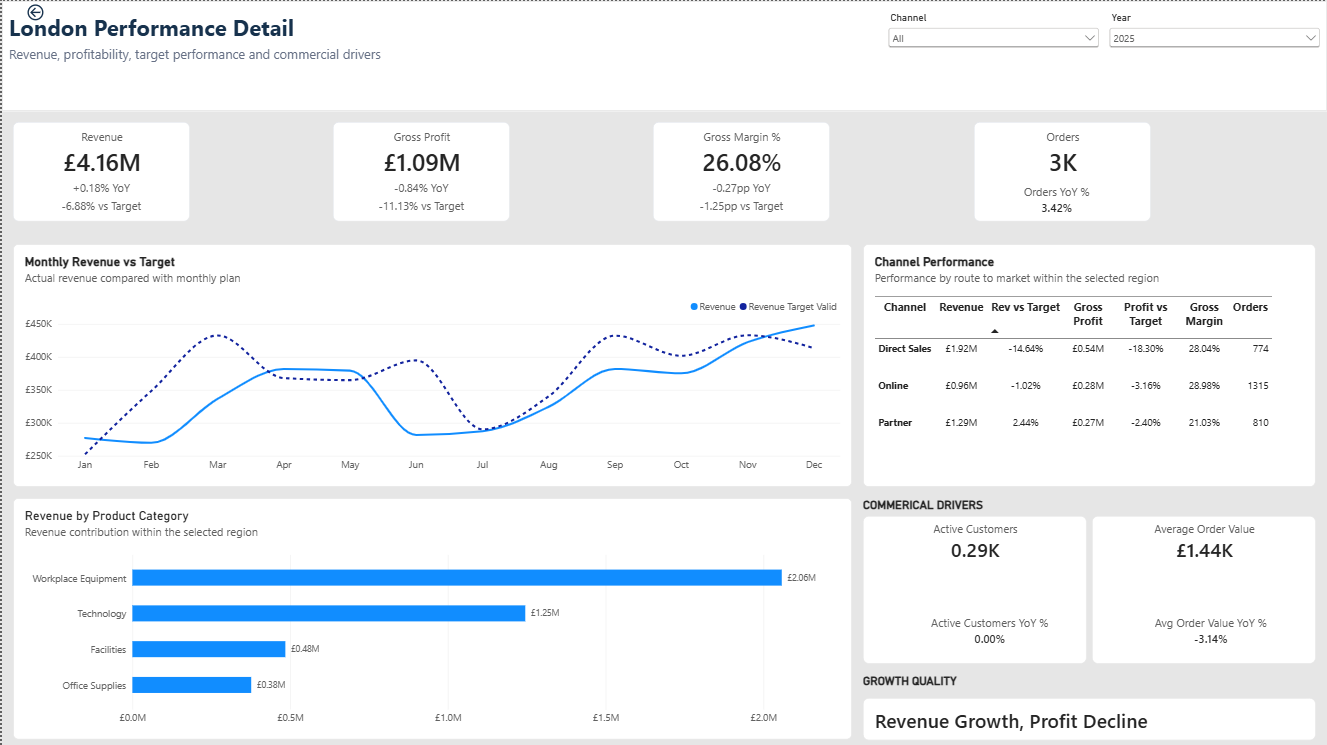

What the dashboard file says about the page in this screenshot:
{"tool":"powerbi","page":{"name":"DT Region Detail","canvas":[1920,1080],"ordinal":3},"visuals":[{"type":"shape","box":[0,0,1920,160],"z":0},{"type":"cardVisual","fields":{"Data":["_Measures.Gross Profit Margin %"]},"box":[944,176,256,144],"z":0,"group":"g1"},{"type":"cardVisual","fields":{"Data":["_Measures.Orders"]},"box":[1408,176,256,144],"z":0,"group":"g4"},{"type":"cardVisual","fields":{"Data":["_Measures.Gross Margin YoY Change","_Measures.Gross Margin vs Target Valid"]},"box":[944,256,256,64],"z":1000,"group":"g1"},{"type":"textbox","box":[10,64,1270,32],"z":2000},{"type":"slicer","fields":{"Values":["DimDate.Year"]},"box":[1600,16,315,65],"z":3000},{"type":"slicer","fields":{"Values":["DimChannel.Channel"]},"box":[1280,16,315,65],"z":4000},{"type":"cardVisual","fields":{"Data":["_Measures.Revenue"]},"box":[16,176,256,144],"z":6000,"group":"g3"},{"type":"cardVisual","fields":{"Data":["_Measures.Gross Profit"]},"box":[480,176,256,144],"z":6000,"group":"g2"},{"type":"lineChart","title":"Monthly Revenue vs Target","fields":{"Category":["DimDate.MonthShort"],"Y":["_Measures.Revenue","_Measures.Revenue Target Valid"]},"box":[16,352,1216,352],"z":6000},{"type":"group","id":"g1","title":"Group 1","box":[944,176,256,144],"z":10000},{"type":"group","id":"g2","title":"Group 2","box":[480,176,256,144],"z":11000},{"type":"group","id":"g3","title":"Group 3","box":[16,176,256,144],"z":12000},{"type":"textbox","box":[10,16,1270,48],"z":12001},{"type":"actionButton","box":[0,0,96,32],"z":12002},{"type":"cardVisual","fields":{"Data":["_Measures.Orders YoY %"]},"box":[1424,256,208,64],"z":12003,"group":"g4"},{"type":"group","id":"g4","title":"Group 4","box":[1408,176,256,144],"z":12004},{"type":"pivotTable","title":"Channel Performance","fields":{"Rows":["DimChannel.Channel"],"Values":["_Measures.Revenue","_Measures.Revenue vs Target % Valid","_Measures.Gross Profit","_Measures.Profit vs Target % Valid","_Measures.Gross Margin %","_Measures.Orders"]},"box":[1248,352,656,352],"z":12005},{"type":"barChart","title":"Revenue by Product Category","fields":{"Category":["DimProduct.Category"],"Y":["_Measures.Revenue"]},"box":[16,720,1216,350],"z":12006},{"type":"cardVisual","title":"COMMERICAL DRIVERS","fields":{"Data":["_Measures.Active Customers","_Measures.Average Order Value"]},"box":[1248,720,656,240],"z":12007},{"type":"cardVisual","fields":{"Data":["_Measures.Active Customers YoY %"]},"box":[1328,880,208,64],"z":12009},{"type":"cardVisual","fields":{"Data":["_Measures.Average Order Value YoY %"]},"box":[1648,880,208,64],"z":12010},{"type":"cardVisual","title":"GROWTH QUALITY","fields":{"Data":["_Measures.Growth Quality"]},"box":[1248,976,656,96],"z":12011},{"type":"cardVisual","fields":{"Data":["_Measures.Revenue YoY %","_Measures.Revenue vs Target % Valid"]},"box":[16,256,256,64],"z":13000,"group":"g3"},{"type":"cardVisual","fields":{"Data":["_Measures.Gross Profit YoY %","_Measures.Profit vs Target % Valid"]},"box":[480,256,256,64],"z":13000,"group":"g2"}]}

Visuals, with their boxes in screenshot pixels (x1, y1, x2, y2), scaled from the page's 1920x1080 canvas onto the 1327x745 screenshot:
shape: [x1=0, y1=0, x2=1326, y2=110]
cardVisual - _Measures.Gross Profit Margin %: [x1=652, y1=121, x2=829, y2=221]
cardVisual - _Measures.Orders: [x1=973, y1=121, x2=1150, y2=221]
cardVisual - _Measures.Gross Margin YoY Change x _Measures.Gross Margin vs Target Valid: [x1=652, y1=177, x2=829, y2=221]
textbox: [x1=7, y1=44, x2=885, y2=66]
slicer - DimDate.Year: [x1=1106, y1=11, x2=1324, y2=56]
slicer - DimChannel.Channel: [x1=885, y1=11, x2=1102, y2=56]
cardVisual - _Measures.Revenue: [x1=11, y1=121, x2=188, y2=221]
cardVisual - _Measures.Gross Profit: [x1=332, y1=121, x2=509, y2=221]
"Monthly Revenue vs Target" lineChart: [x1=11, y1=243, x2=851, y2=486]
"Group 1" group: [x1=652, y1=121, x2=829, y2=221]
"Group 2" group: [x1=332, y1=121, x2=509, y2=221]
"Group 3" group: [x1=11, y1=121, x2=188, y2=221]
textbox: [x1=7, y1=11, x2=885, y2=44]
actionButton: [x1=0, y1=0, x2=66, y2=22]
cardVisual - _Measures.Orders YoY %: [x1=984, y1=177, x2=1128, y2=221]
"Group 4" group: [x1=973, y1=121, x2=1150, y2=221]
"Channel Performance" pivotTable: [x1=863, y1=243, x2=1316, y2=486]
"Revenue by Product Category" barChart: [x1=11, y1=497, x2=851, y2=738]
"COMMERICAL DRIVERS" cardVisual: [x1=863, y1=497, x2=1316, y2=662]
cardVisual - _Measures.Active Customers YoY %: [x1=918, y1=607, x2=1062, y2=651]
cardVisual - _Measures.Average Order Value YoY %: [x1=1139, y1=607, x2=1283, y2=651]
"GROWTH QUALITY" cardVisual: [x1=863, y1=673, x2=1316, y2=739]
cardVisual - _Measures.Revenue YoY % x _Measures.Revenue vs Target % Valid: [x1=11, y1=177, x2=188, y2=221]
cardVisual - _Measures.Gross Profit YoY % x _Measures.Profit vs Target % Valid: [x1=332, y1=177, x2=509, y2=221]
